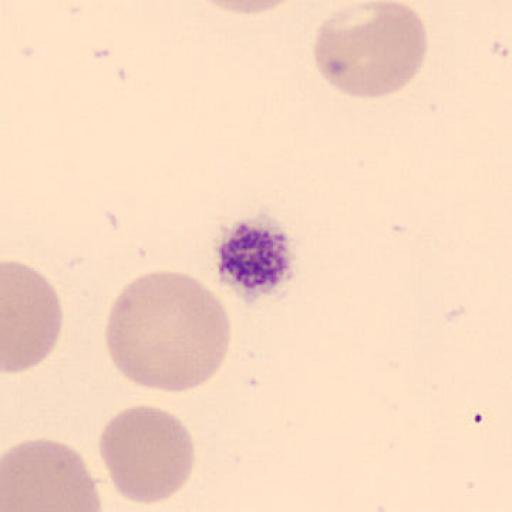Platelet: (213, 215, 299, 305)
RBC: (105, 268, 233, 396), (311, 0, 429, 100), (98, 402, 196, 506), (2, 437, 102, 512), (1, 259, 64, 374), (188, 0, 300, 16)
